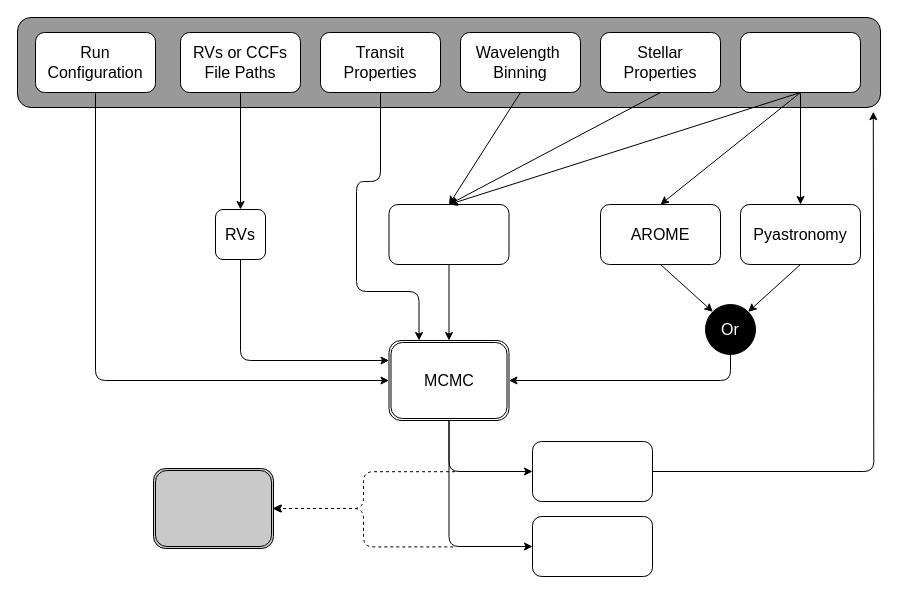
The diagram is 900 pixels wide and 594 high, and some of its shapes have lost their labels. The centre of each missing label's shape, as x and y in pixels:
"Chromatic fit" belongs at (592,546).
"Limb-darkening LDTK" belongs at (448,234).
"Output" belongs at (213,508).
"RM Model *" belongs at (800,62).
"White-light fit" belongs at (592,471).
